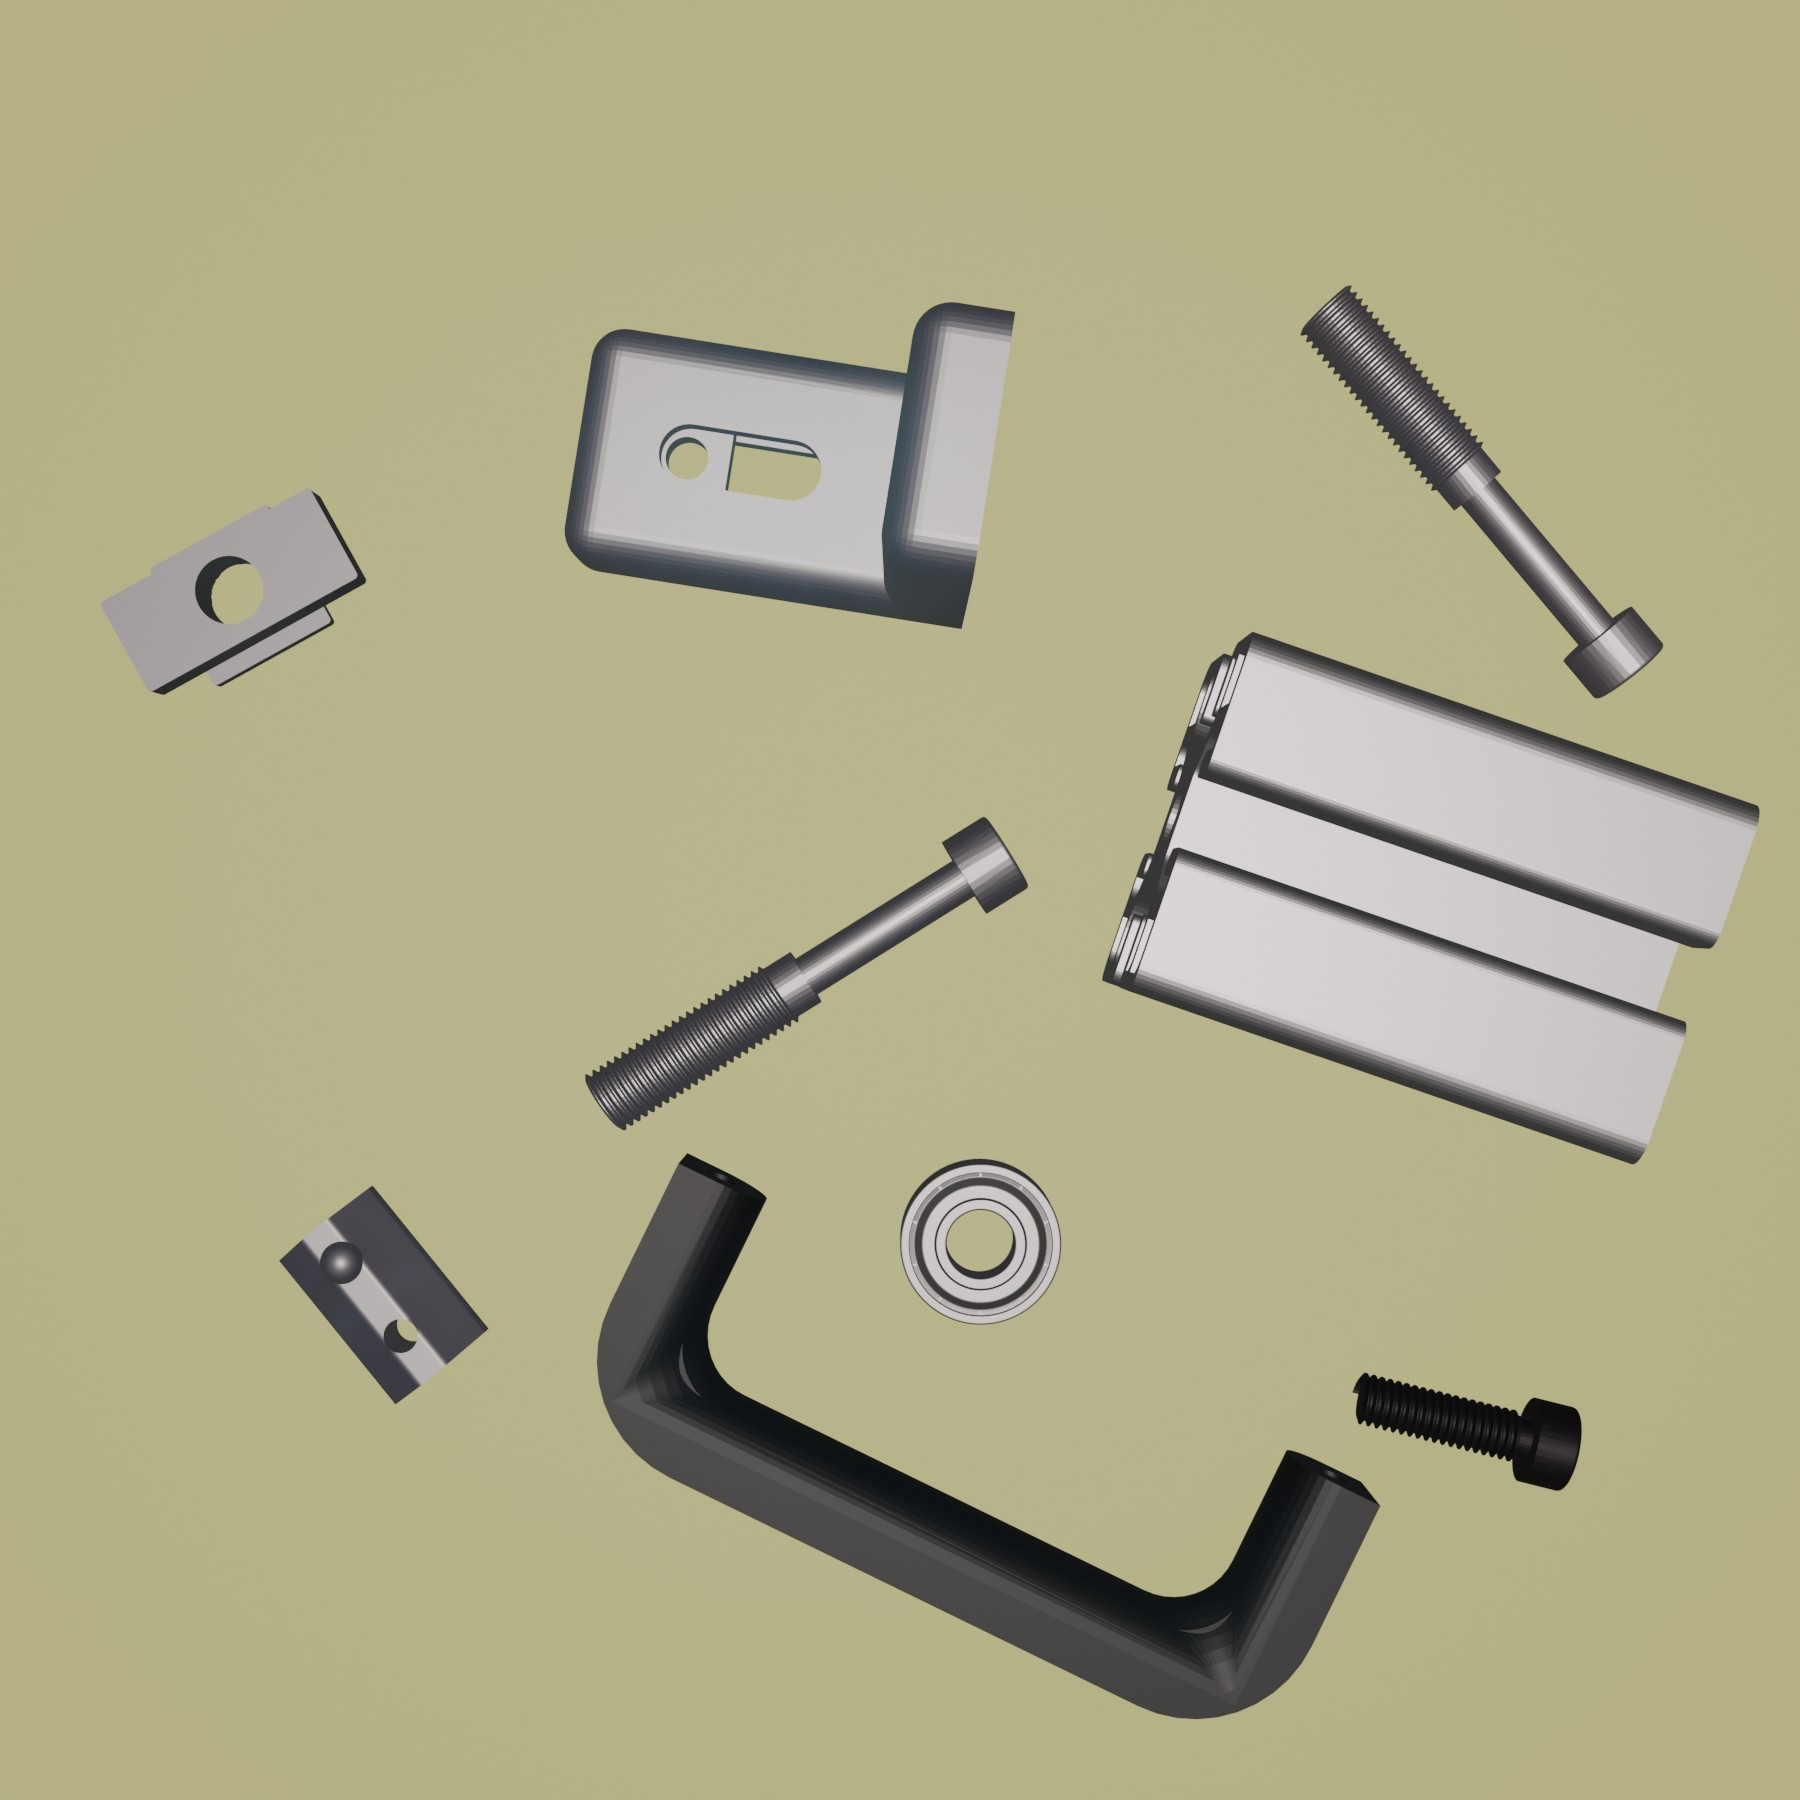Aluminium Extension: (1099, 631, 1762, 1169)
Ball Bearing: (897, 1155, 1063, 1327)
Multiwinkel: (559, 300, 1017, 631)
Pull Handle: (593, 1149, 1381, 1723)
Shoulder Socket Head Cap Screw: (1297, 280, 1665, 701), (582, 813, 1029, 1131)
Socket Head Cap Screw: (1350, 1365, 1582, 1492)
T Nut Square: (97, 486, 369, 699)
T Spring Nut: (279, 1180, 490, 1404)
